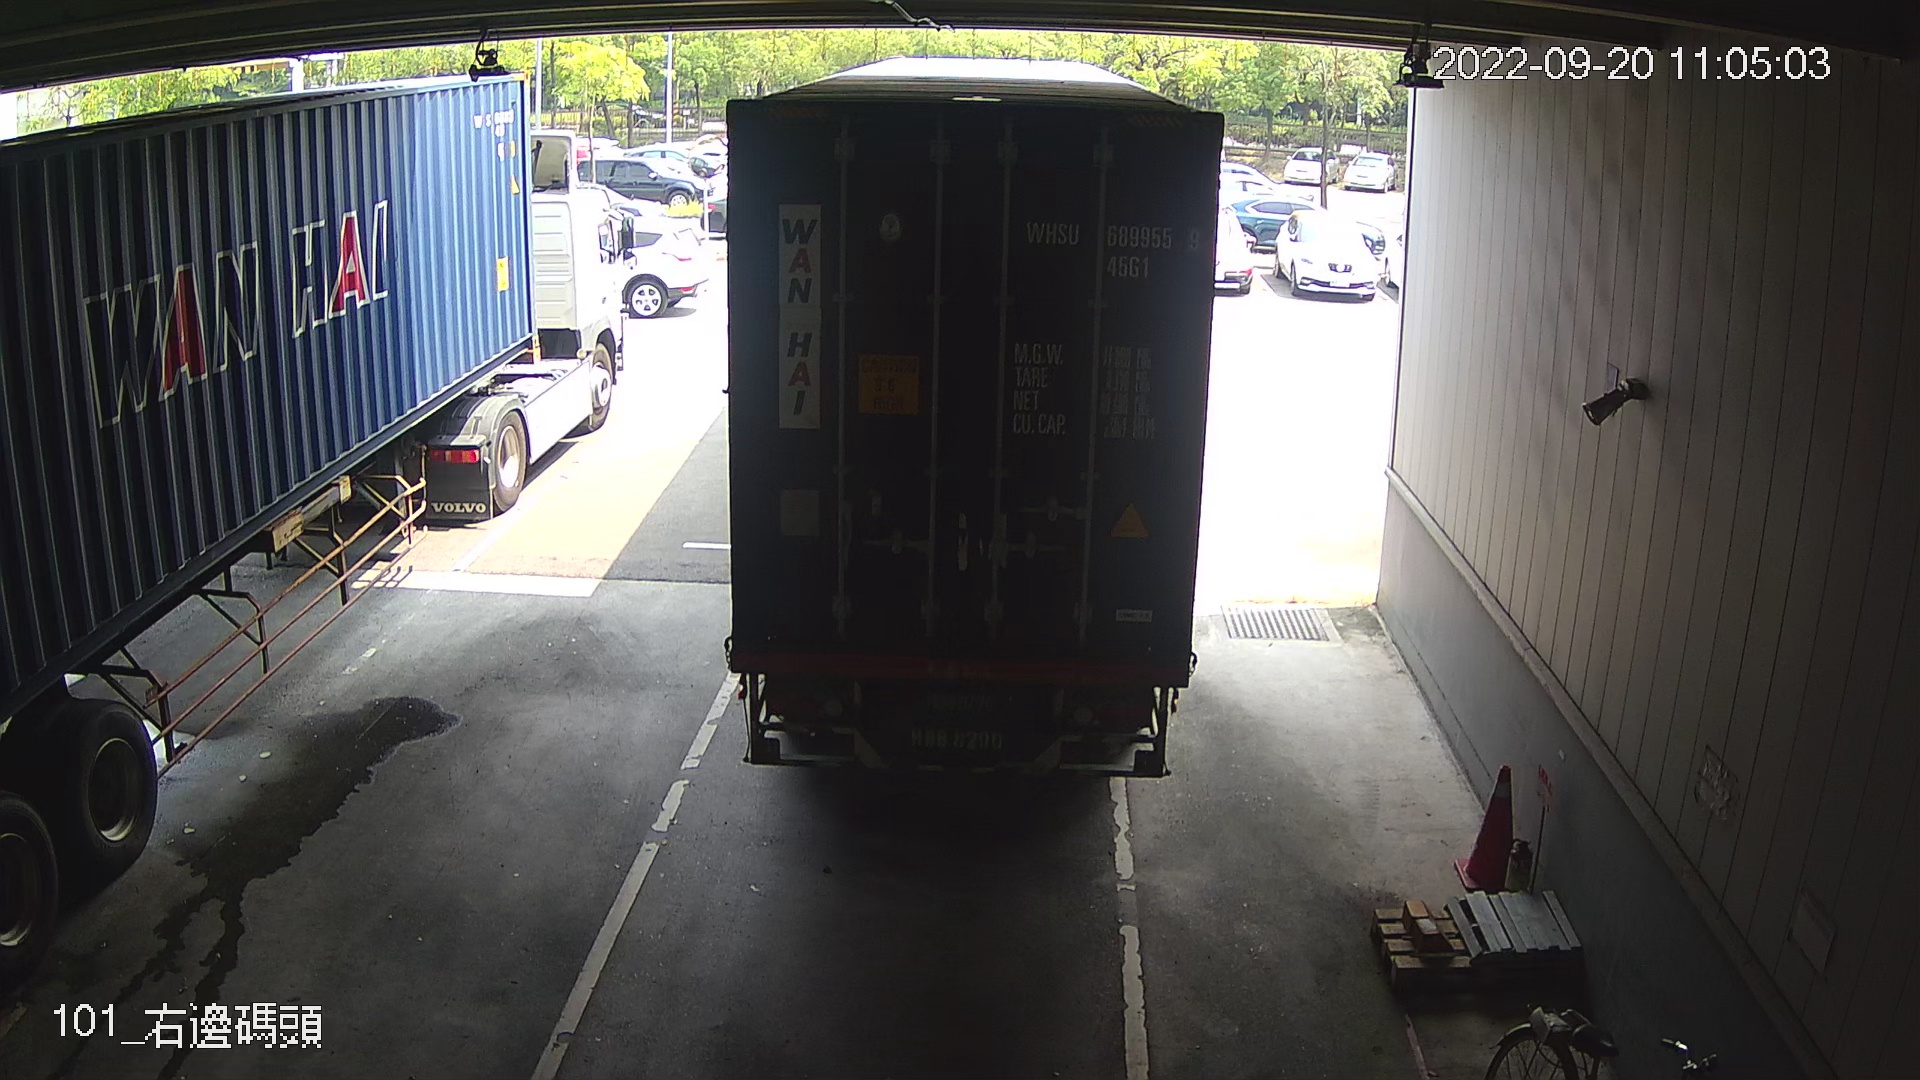container: (1017, 206, 1207, 287)
